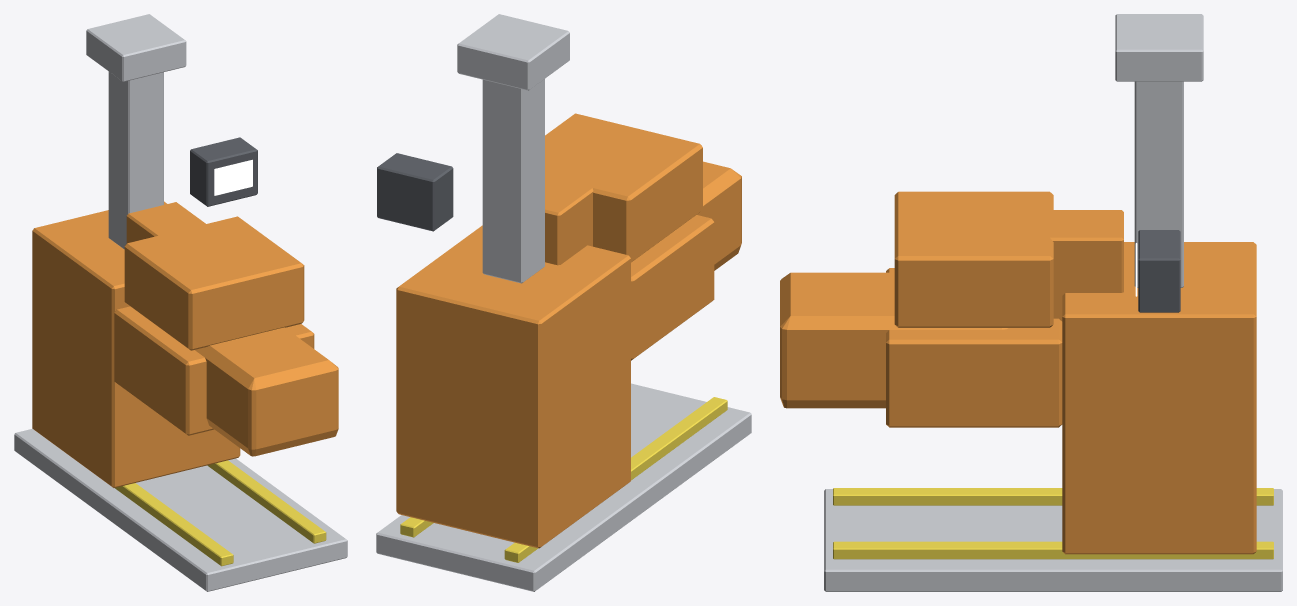
Rendered from offshore-oil-rig-and-platform-iron-roughneck-e79afabf__37021.glb.
3 renders of one model, left to right at view 1: azimuth 30°, elevation 25°; view 2: azimuth 150°, elevation 25°; view 3: azimuth 270°, elevation 25°, orthographic. The views are drawn at different scales.
Visible parts, largest first — view 1: iron-roughneck, roughneck-head; view 2: iron-roughneck, roughneck-head; view 3: iron-roughneck, roughneck-head.
Boxes of the visible parts, <box> form: iron-roughneck: <box>14,14,347,591</box>; roughneck-head: <box>114,202,338,456</box>; iron-roughneck: <box>376,14,751,591</box>; roughneck-head: <box>545,113,741,360</box>; iron-roughneck: <box>824,14,1282,591</box>; roughneck-head: <box>780,191,1123,427</box>.
Bounding box in the file's own units: 1.43 × 3.25 × 2.85.
